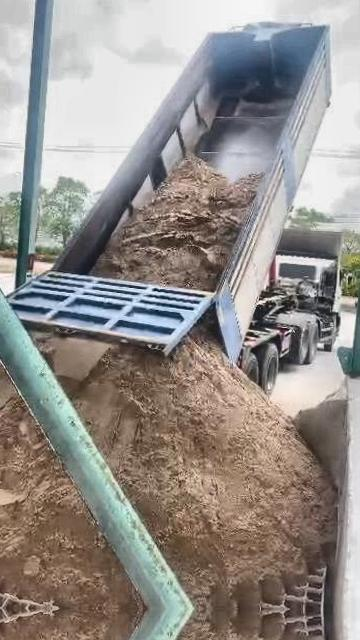sand: (72, 326, 334, 608), (0, 399, 140, 608), (92, 160, 261, 289), (295, 390, 345, 469), (32, 332, 107, 383), (0, 364, 12, 412)
